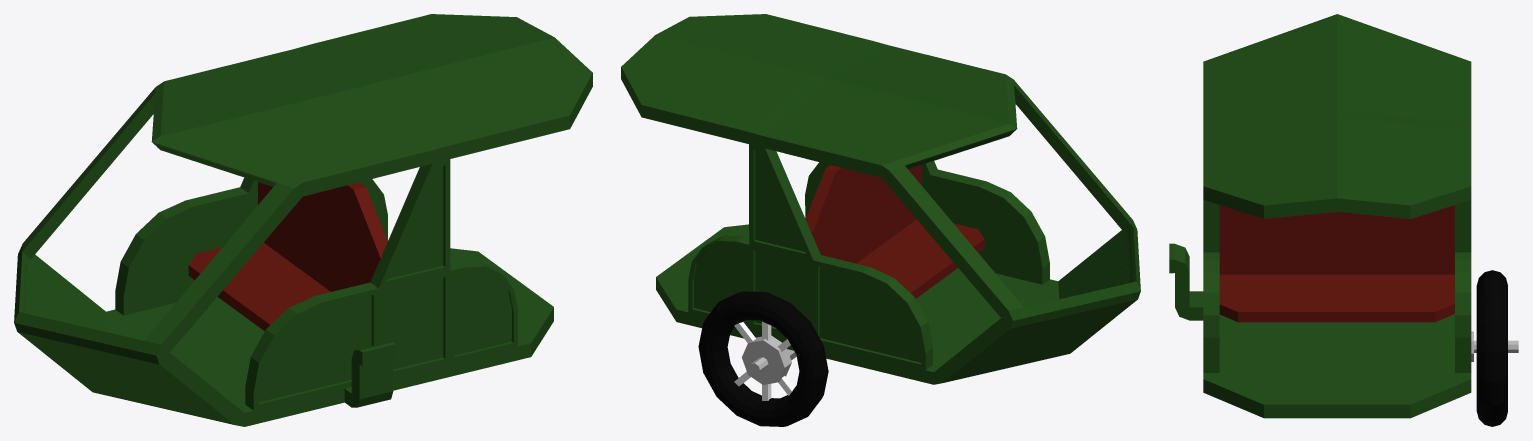
Rendered from Sidecar_1.fbx.
The picture shows the model from 3 angles, left to right: view 1: azimuth 30°, elevation 25°; view 2: azimuth 150°, elevation 25°; view 3: azimuth 270°, elevation 25°; orthographic projection. The views are drawn at different scales.
Parts seen in each view (by area): view 1: Cube.031; view 2: Cube.031; view 3: Cube.031.
Boxes of the visible parts, bbox=[...] form: Cube.031: bbox=[14, 14, 592, 426]; Cube.031: bbox=[621, 14, 1140, 426]; Cube.031: bbox=[1169, 14, 1518, 426].
Bounding box in the file's own units: 269 × 155 × 156.
